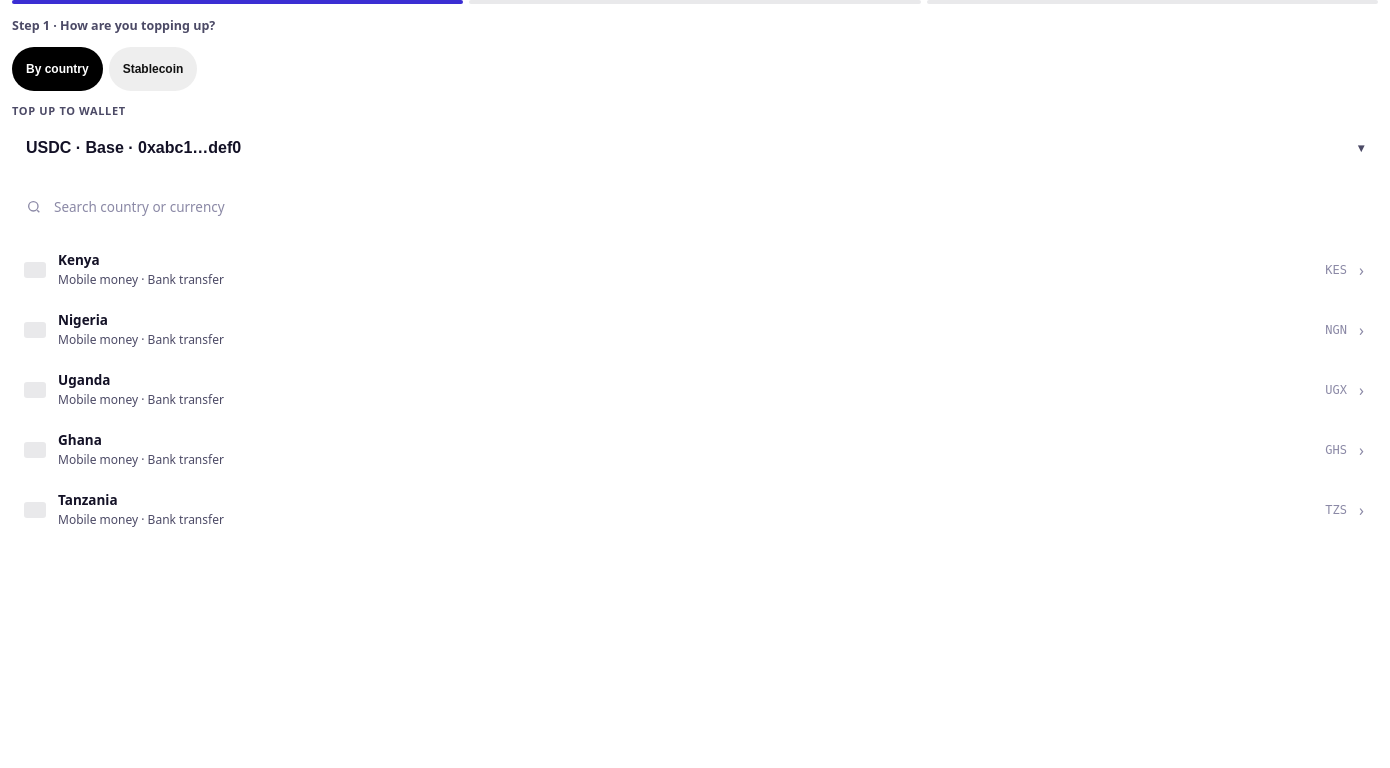
Test: DepositModal country-first step › shows search-empty when a query matches nothing, not catalog recovery
In the field with placeholder "Search country or currency": (708, 207) [52,197,1364,217], type "zzzz-no-match"
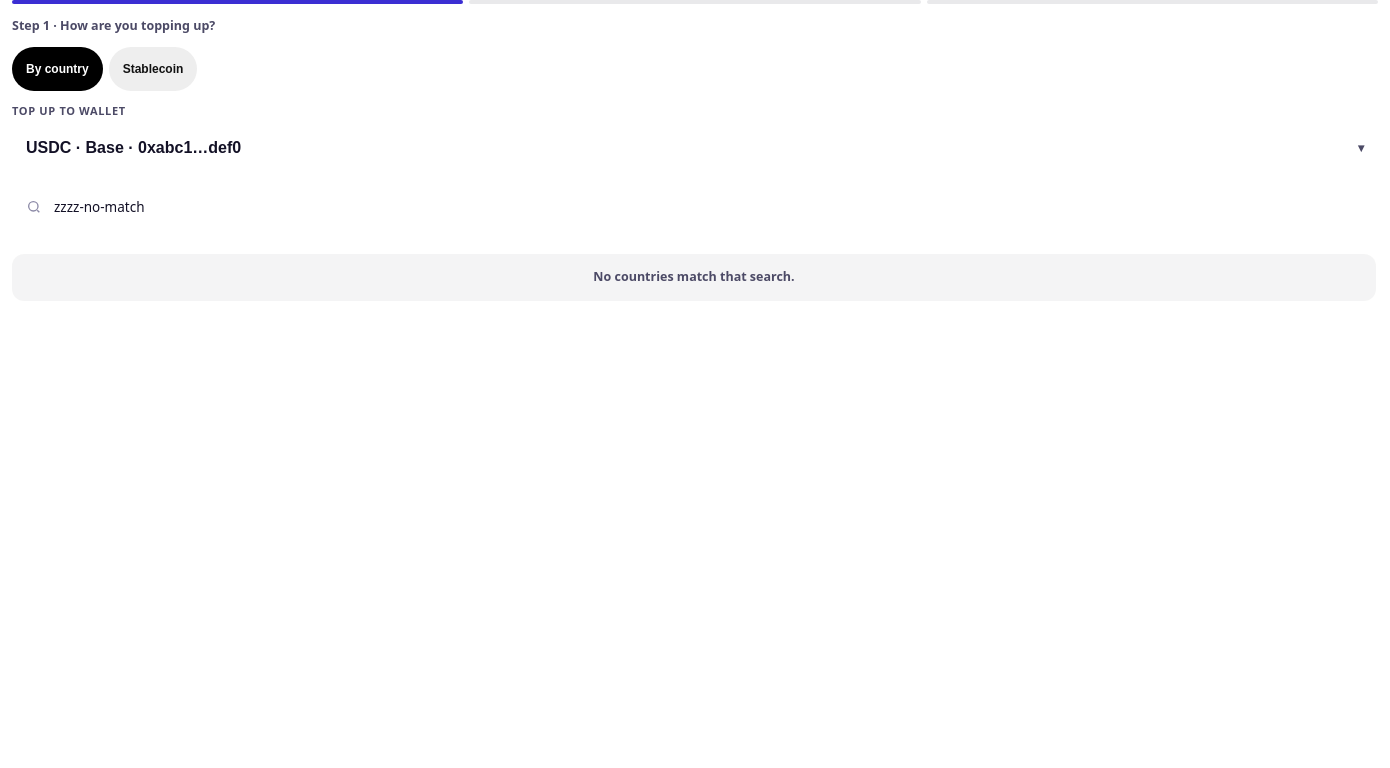
Check: the text "No countries match that search." is shown, box [12,254,1376,300]
